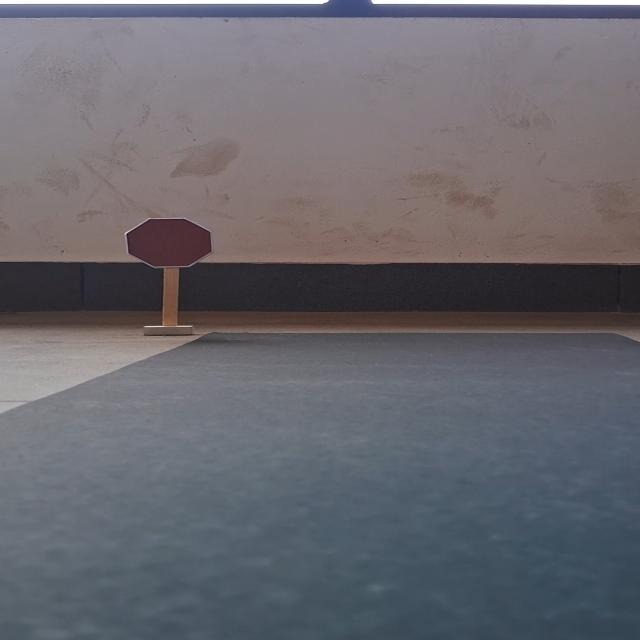Stop: (124, 218, 216, 269)
